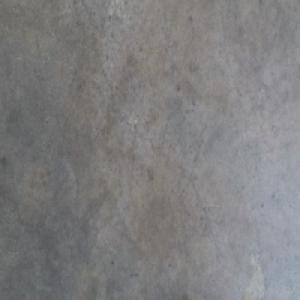Pliers: (185, 291, 196, 299)
